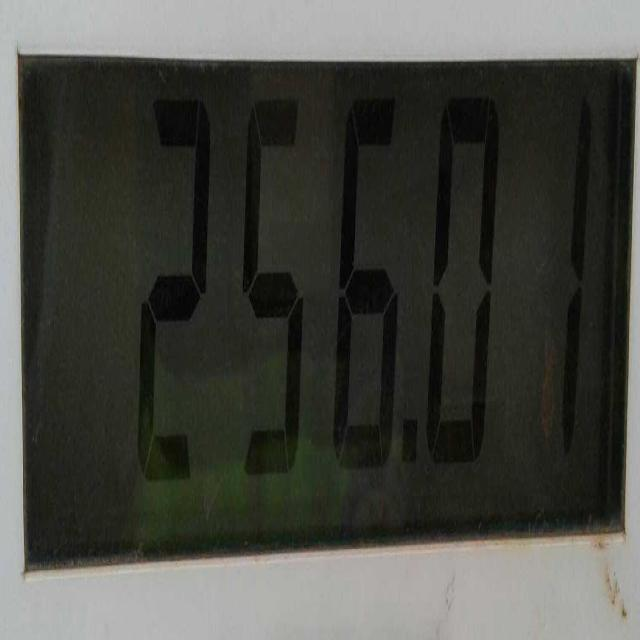.: (400, 408, 417, 472)
0: (426, 89, 501, 463)
1: (562, 82, 592, 458)
2: (138, 43, 212, 531)
5: (239, 39, 307, 528)
6: (333, 63, 402, 497)
